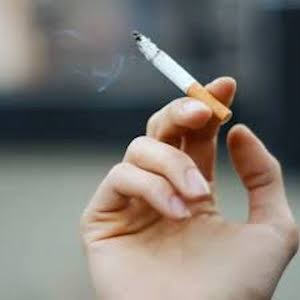heat: (130, 30, 167, 65)
